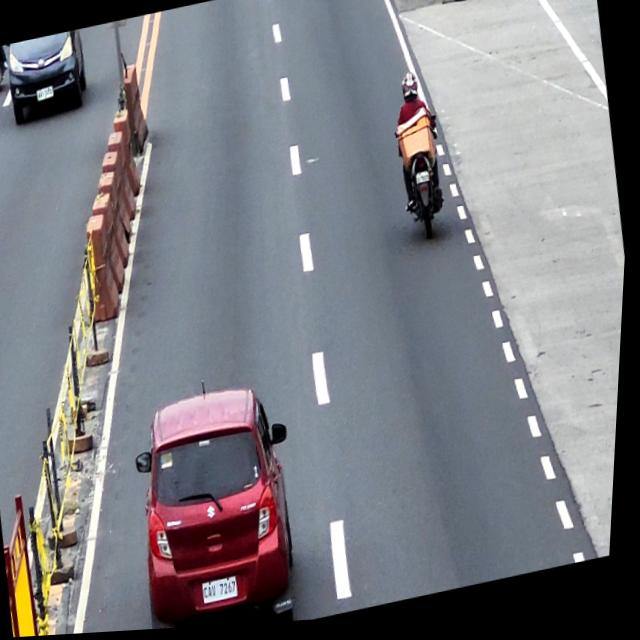Car: (125, 379, 324, 633), (2, 29, 95, 124)
License-Plate: (207, 579, 247, 608), (35, 84, 56, 102), (416, 174, 433, 190)
Motorcycle: (391, 114, 457, 251), (0, 46, 8, 97)
